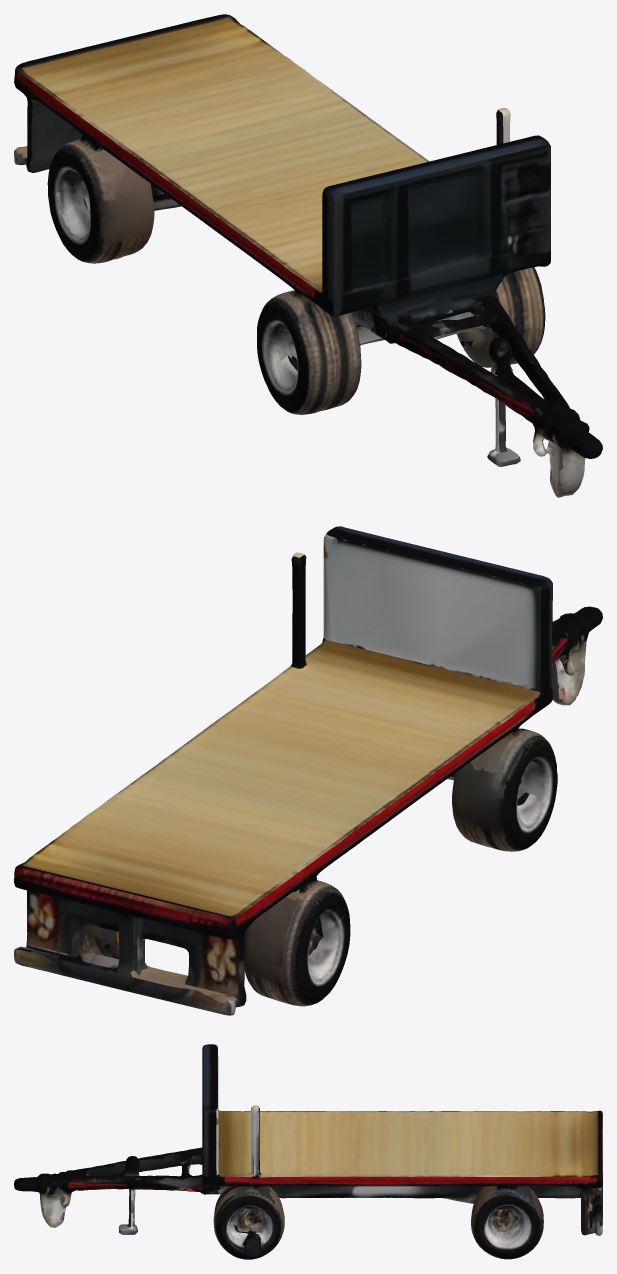
The model's file is compressed_flatbed3d.glb.
The picture shows the model from 3 angles, top to bottom: view 1: azimuth 30°, elevation 25°; view 2: azimuth 150°, elevation 25°; view 3: azimuth 270°, elevation 25°; orthographic projection. The views are drawn at different scales.
Visible parts, largest first — view 1: tmpo5l1y63k.ply; view 2: tmpo5l1y63k.ply; view 3: tmpo5l1y63k.ply.
Part boxes in pixels (left/top/right/bottom): tmpo5l1y63k.ply: left=14, top=14, right=602, bottom=497; tmpo5l1y63k.ply: left=14, top=526, right=602, bottom=1015; tmpo5l1y63k.ply: left=14, top=1044, right=602, bottom=1259.
Bounding box in the file's own units: 0.613 × 0.5767 × 1.96.
1 material, 1 textured.
